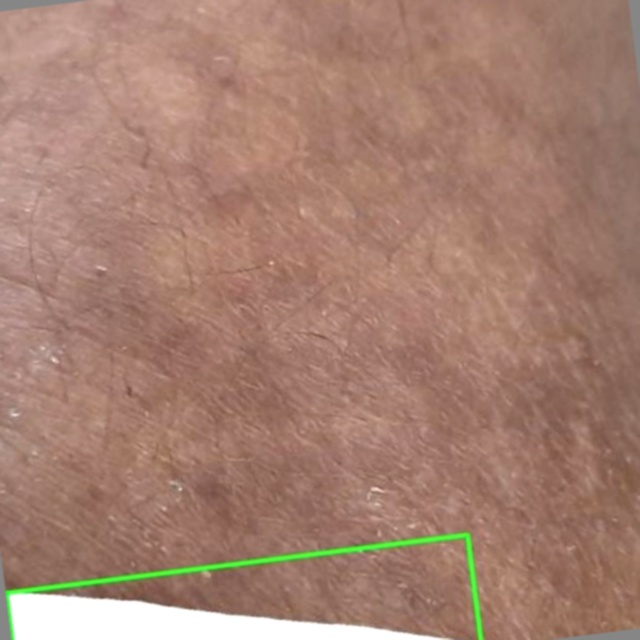Contact Dermatitis: (6, 535, 481, 639)
